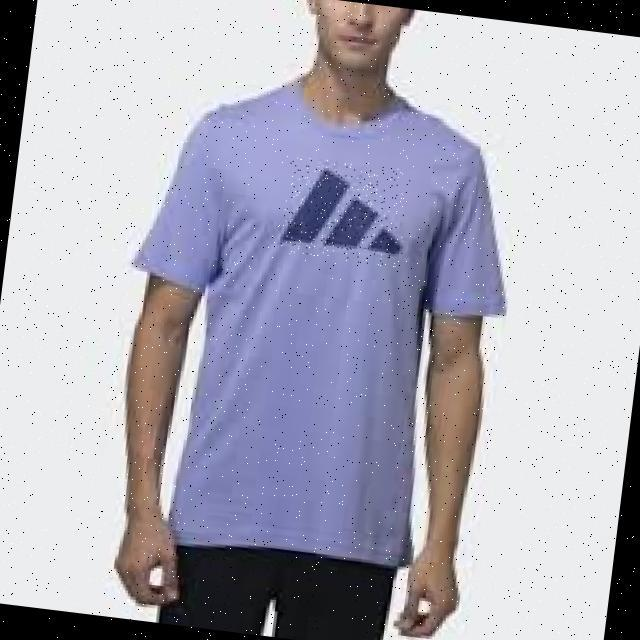Adidas: (279, 156, 412, 268)
